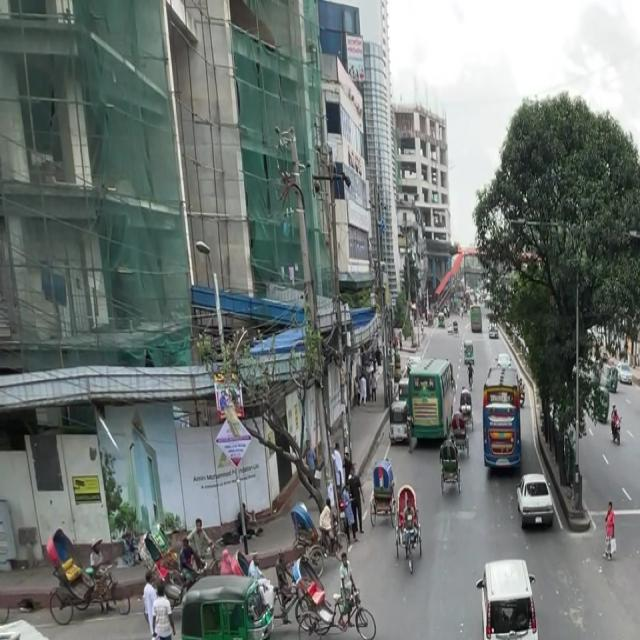car: (469, 547, 551, 640), (512, 459, 561, 540), (480, 407, 526, 482)
rickshaw: (175, 572, 284, 640)
